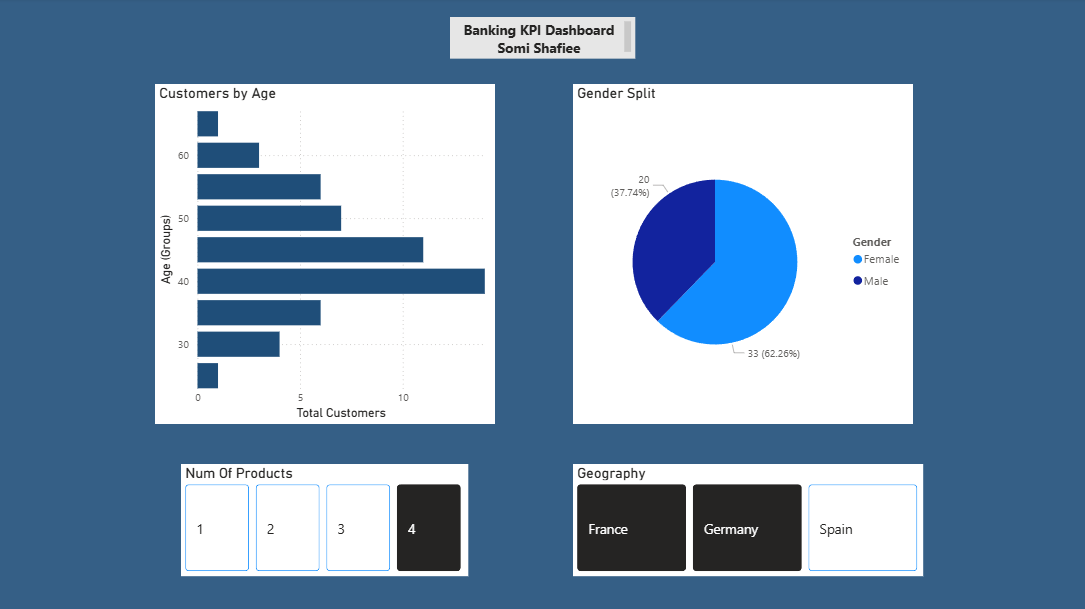

Layout of this report page (visuals, bound fields, positions):
{"tool":"powerbi","page":{"name":"Demographics","canvas":[1280,720],"ordinal":2},"visuals":[{"type":"clusteredBarChart","title":"Customers by Age ","fields":{"Category":["Customer-Churn-Records (2).Age (bins)"],"Y":["Customer-Churn-Records (2).Total Customers"]},"box":[183.5,101.2,400,400],"z":0},{"type":"pieChart","title":"Gender Split","fields":{"Category":["Customer-Churn-Records (2).Gender"],"Y":["Customer-Churn-Records (2).Total Customers"]},"box":[675.3,101.2,400,400],"z":1000},{"type":"advancedSlicerVisual","fields":{"Values":["Customer-Churn-Records (2).Geography"]},"box":[675.3,548.2,411.8,131.8],"z":2000},{"type":"advancedSlicerVisual","fields":{"Values":["Customer-Churn-Records (2).Num Of Products"]},"box":[214.1,548.2,337.6,131.8],"z":3000},{"type":"textbox","box":[530,22,217.6,49.4],"z":4000}]}

Visuals, with their boxes in screenshot pixels (x1, y1, x2, y2), scaled from the page's 1280x720 canvas onto the 1085x609 screenshot:
"Customers by Age " clusteredBarChart: left=156, top=86, right=495, bottom=424
"Gender Split" pieChart: left=572, top=86, right=911, bottom=424
advancedSlicerVisual - Customer-Churn-Records (2).Geography: left=572, top=464, right=921, bottom=575
advancedSlicerVisual - Customer-Churn-Records (2).Num Of Products: left=181, top=464, right=468, bottom=575
textbox: left=449, top=19, right=634, bottom=60
